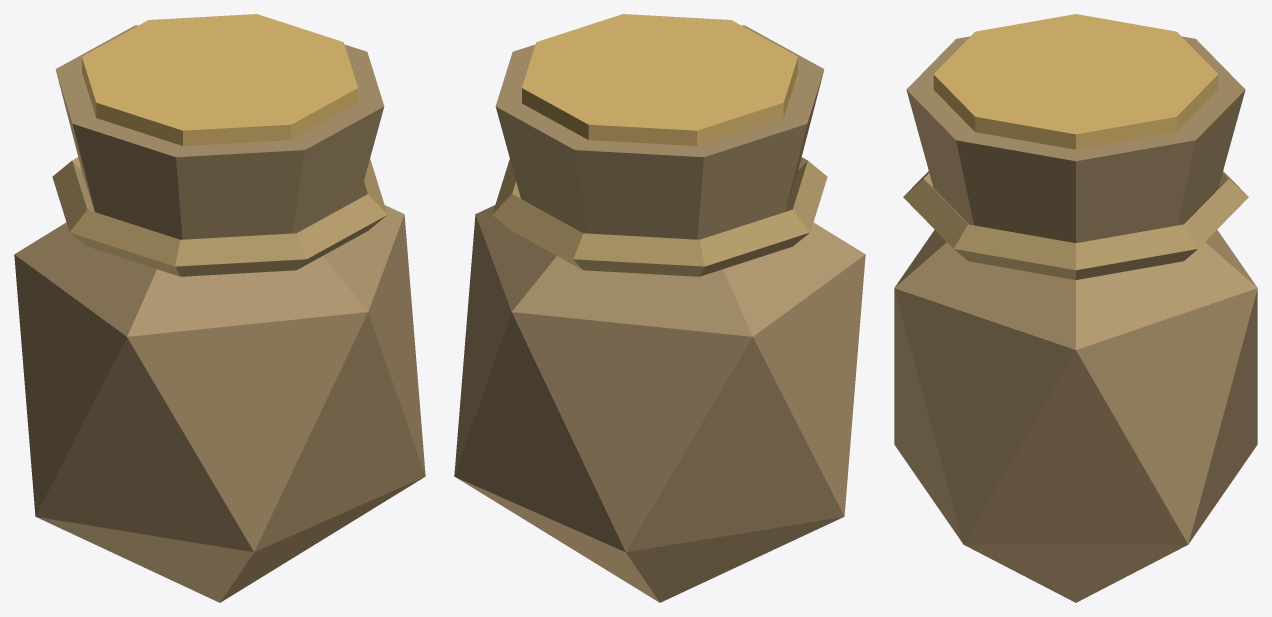
The model's file is seed_pouch.glb.
3 renders of one model, left to right at view 1: azimuth 30°, elevation 25°; view 2: azimuth 150°, elevation 25°; view 3: azimuth 270°, elevation 25°, orthographic.
Visible parts, largest first — view 1: seed_pouch; view 2: seed_pouch; view 3: seed_pouch.
Boxes of the visible parts, x1=… form: seed_pouch: x1=14, y1=14, x2=425, y2=602; seed_pouch: x1=454, y1=14, x2=865, y2=602; seed_pouch: x1=894, y1=14, x2=1257, y2=602.
Size of the model in its own units: 0.1252 by 0.172 by 0.1072.
